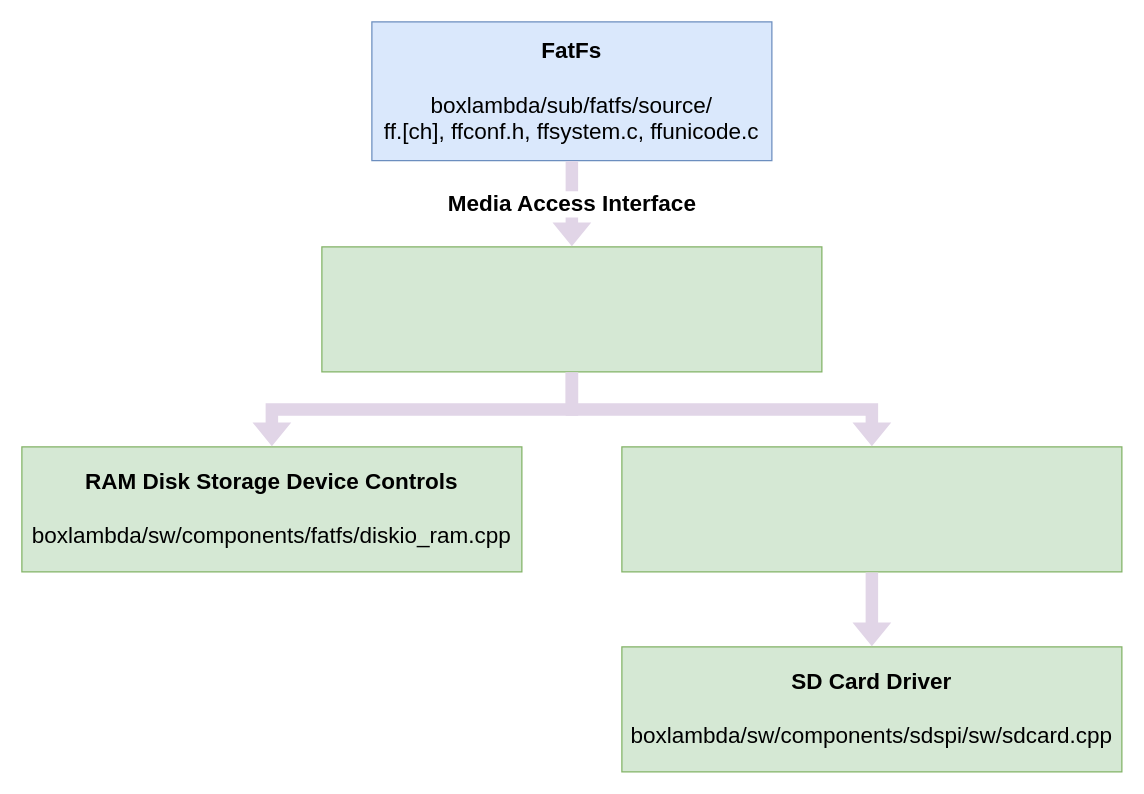
Some shapes in this 1144 by 794 pixel diagram are drawn without their labels. Here are the shapes that lost their labels. From the top down, the box of each, then its label:
(321, 246, 822, 372): Storage Device Control Dispatcher boxlambda/sw/components/fatfs/diskio.cpp
(621, 446, 1122, 572): SD Card Storage Device Controls boxlambda/sw/components/fatfs/diskio_sd.cpp
